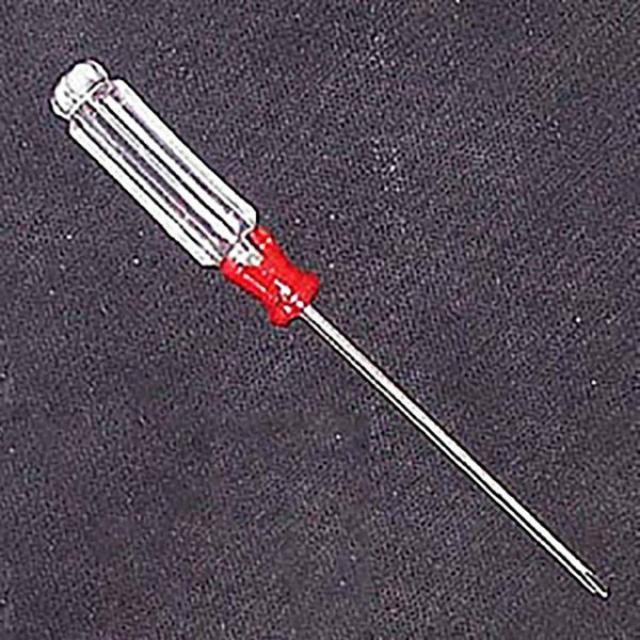screwdriver: (45, 54, 618, 603)
